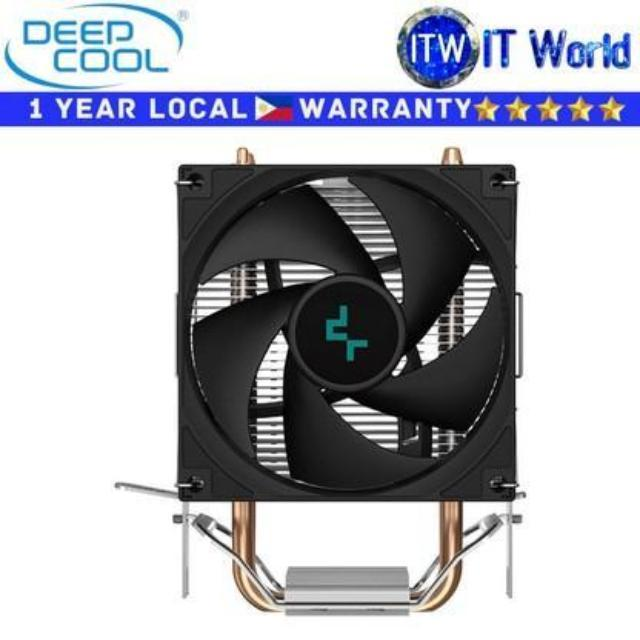CPU_Fan: (175, 147, 520, 618)
